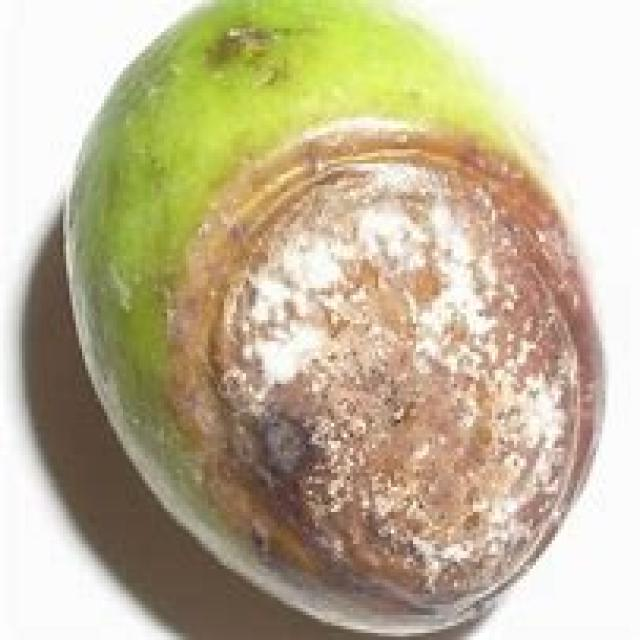Olive Fruit Fly: (69, 4, 602, 633)
